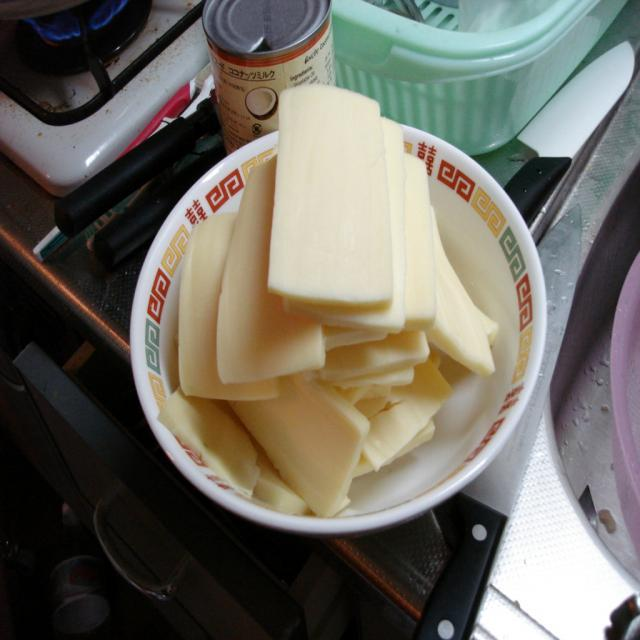Cheese: (156, 82, 498, 520)
